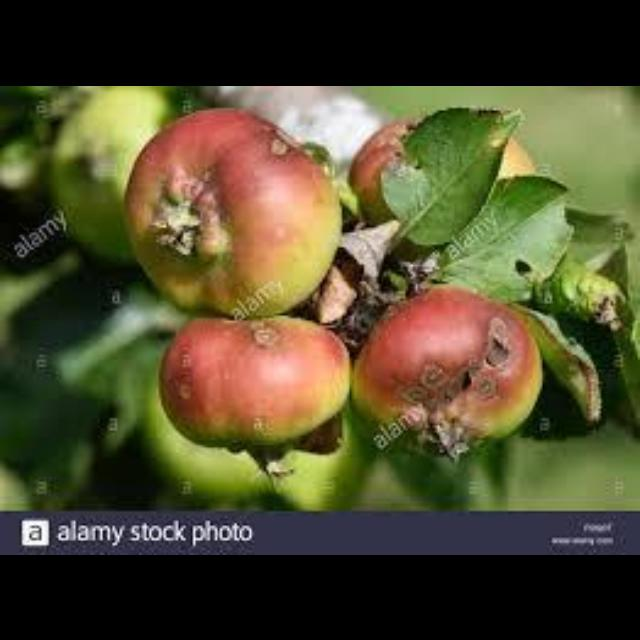apple: (122, 107, 340, 315), (352, 285, 542, 459), (156, 315, 349, 473)
